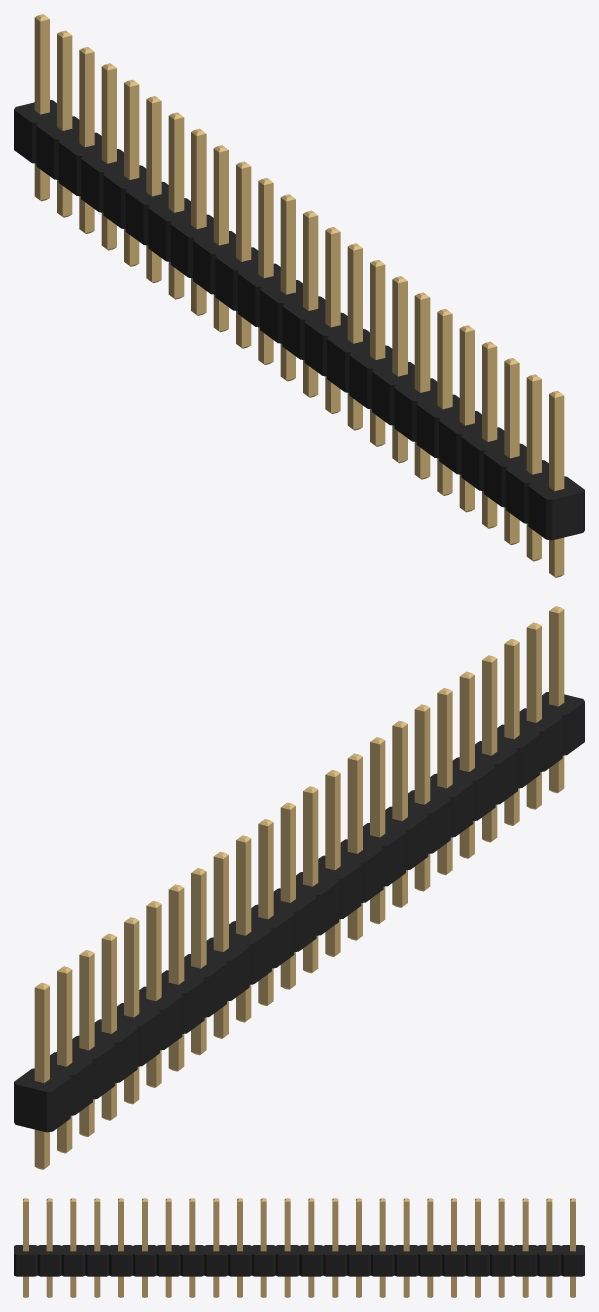
The model's file is kc-pinheader_1x24_p2.54mm_vertical.glb.
The picture shows the model from 3 angles, top to bottom: view 1: azimuth 30°, elevation 25°; view 2: azimuth 150°, elevation 25°; view 3: azimuth 270°, elevation 25°; orthographic projection. The views are drawn at different scales.
Visible parts, largest first — view 1: 0.75_0.5_0.25_0.9, 0_0_0_0; view 2: 0.75_0.5_0.25_0.9, 0_0_0_0; view 3: 0_0_0_0, 0.75_0.5_0.25_0.9.
Part boxes in pixels (x1,y1,x2,y2): 0.75_0.5_0.25_0.9: (34,14,564,577); 0_0_0_0: (14,100,584,540); 0.75_0.5_0.25_0.9: (34,606,564,1169); 0_0_0_0: (14,692,584,1132); 0_0_0_0: (14,1245,584,1276); 0.75_0.5_0.25_0.9: (23,1198,575,1297).
Bounding box in the file's own units: 0.2538 × 1.15 × 6.1.
